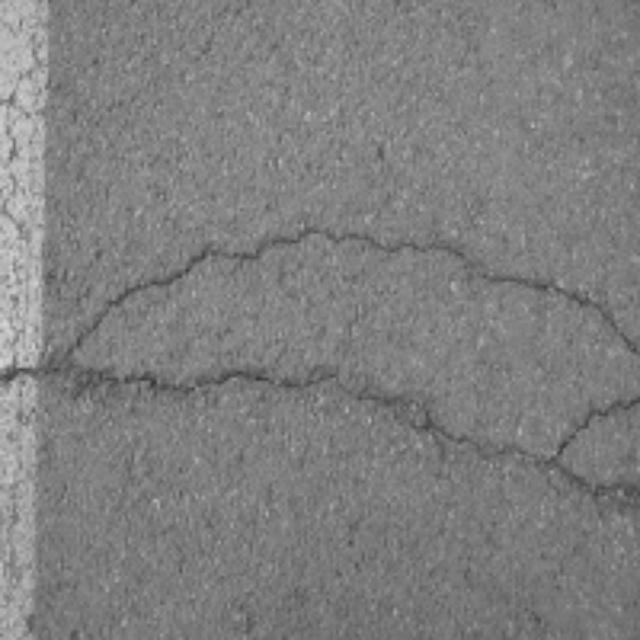Crack: (0, 172, 640, 529)
